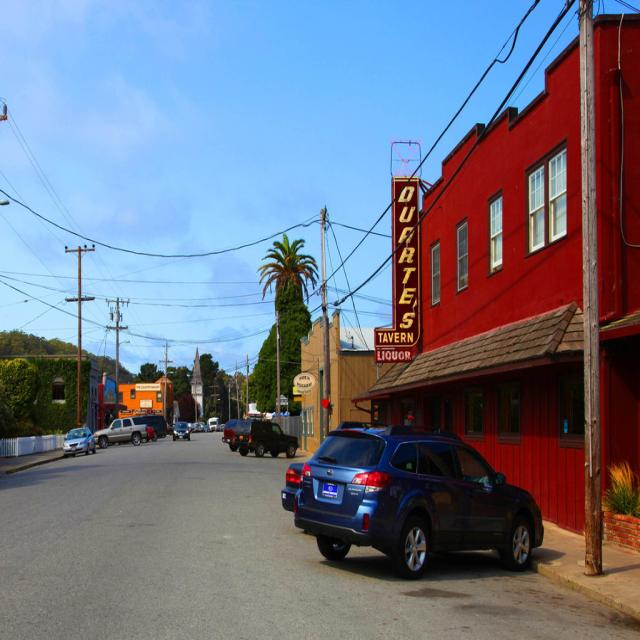car: (289, 423, 551, 581), (232, 413, 295, 460), (59, 422, 93, 453), (131, 410, 167, 436), (220, 414, 239, 448), (173, 418, 190, 440)
